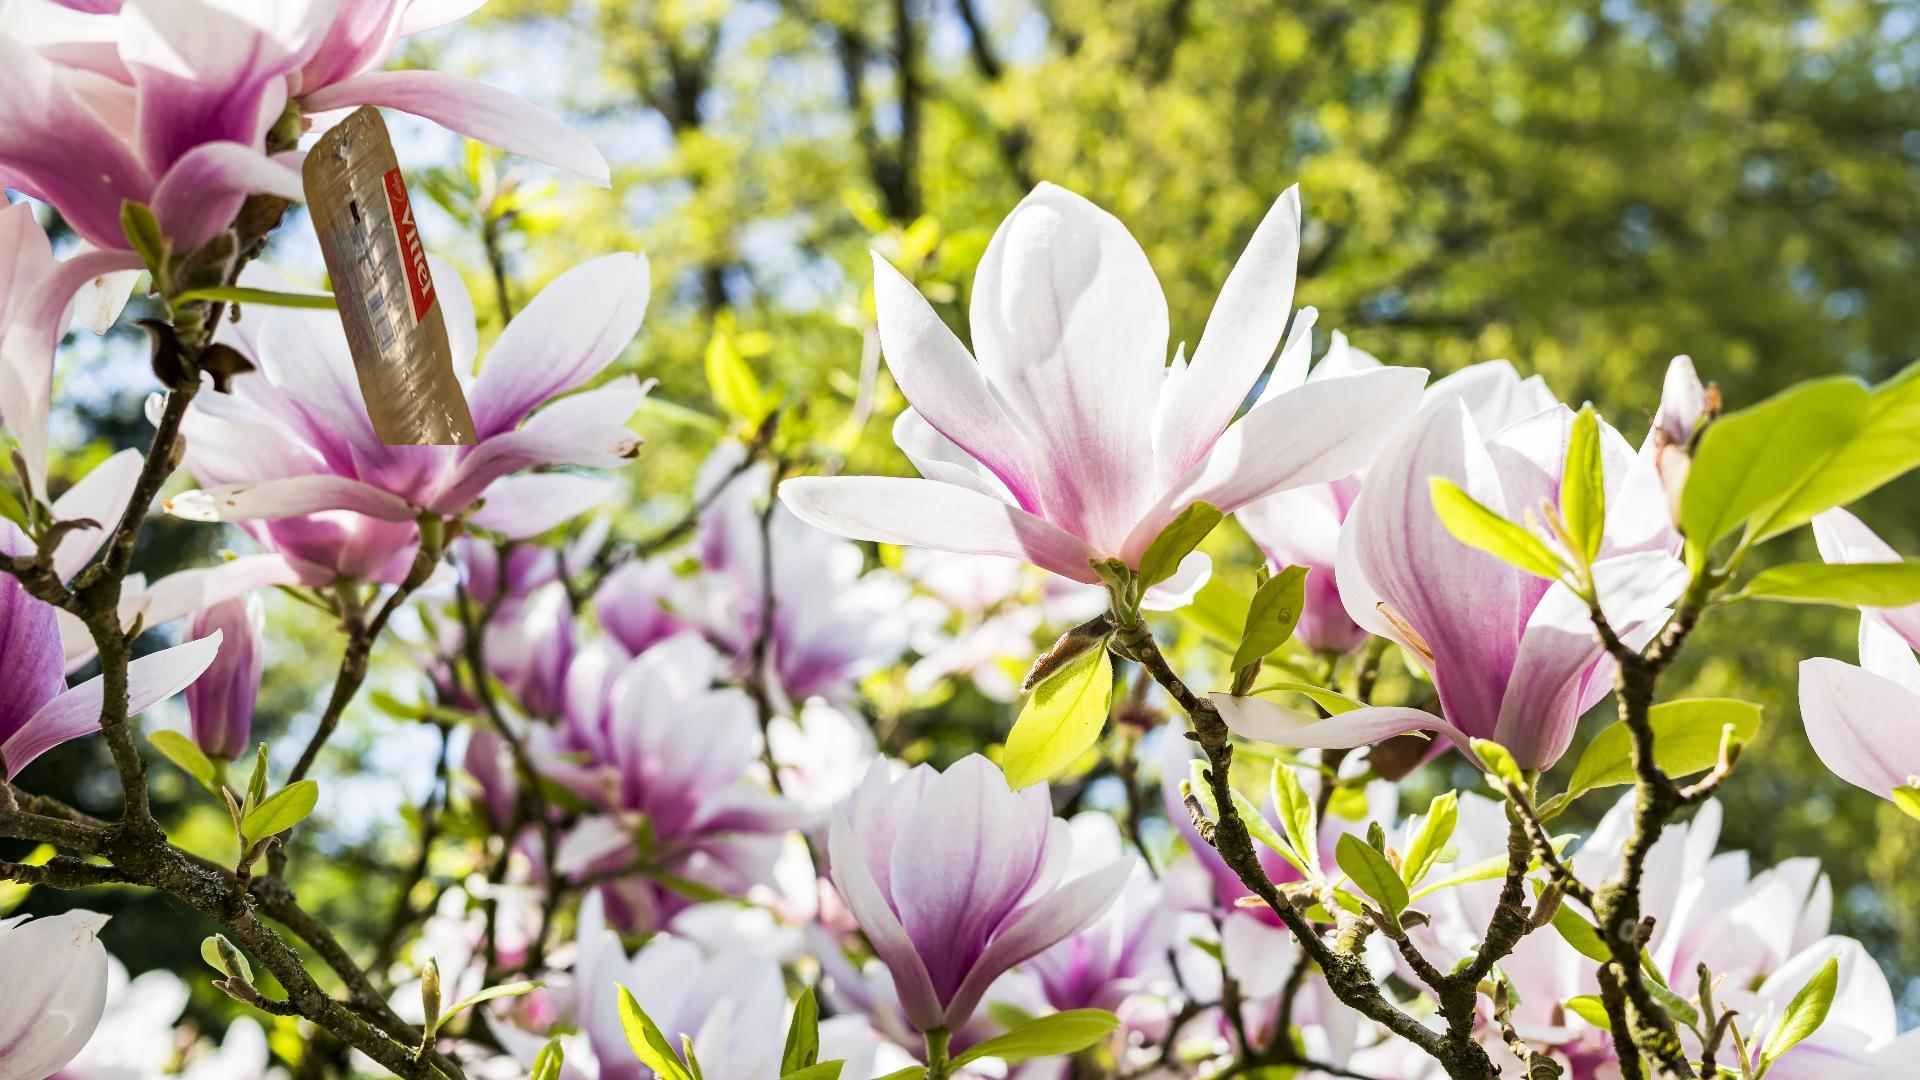plastic-bottles: (298, 99, 483, 444)
